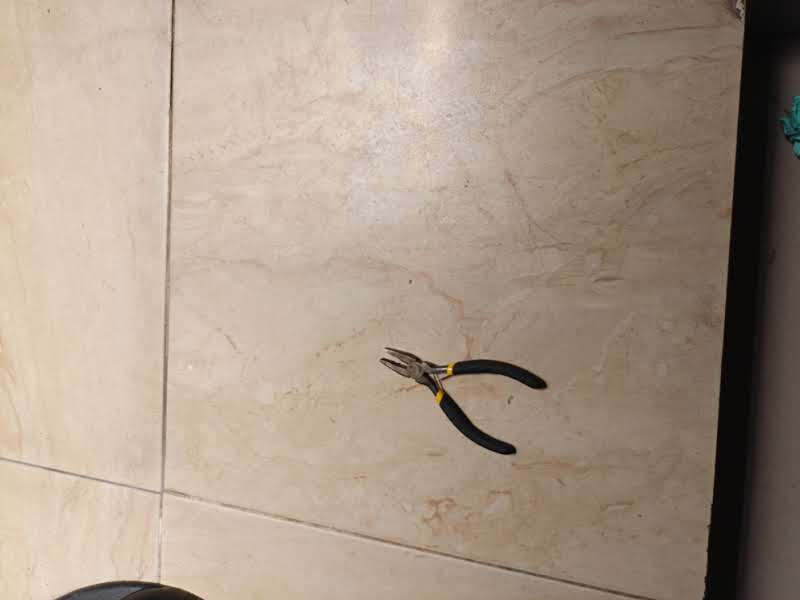Pinzas: (380, 347, 547, 454)
